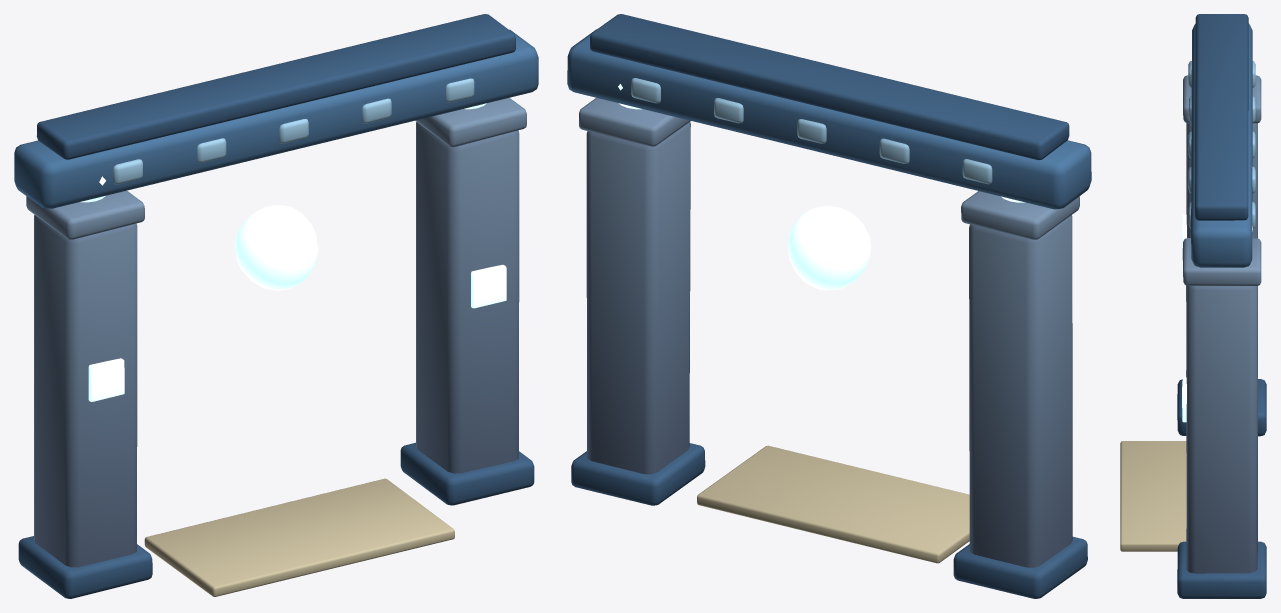
The picture shows the model from 3 angles, left to right: view 1: azimuth 30°, elevation 25°; view 2: azimuth 150°, elevation 25°; view 3: azimuth 270°, elevation 25°; orthographic projection. The views are drawn at different scales.
Visible parts, largest first — view 1: gate_0198f73b; view 2: gate_0198f73b; view 3: gate_0198f73b.
Boxes of the visible parts, x1,y1,x2,y2 form: gate_0198f73b: (14, 14, 538, 598); gate_0198f73b: (567, 14, 1091, 598); gate_0198f73b: (1120, 14, 1266, 598).
Size of the model in its own units: 4.93 by 4.26 by 1.44.
